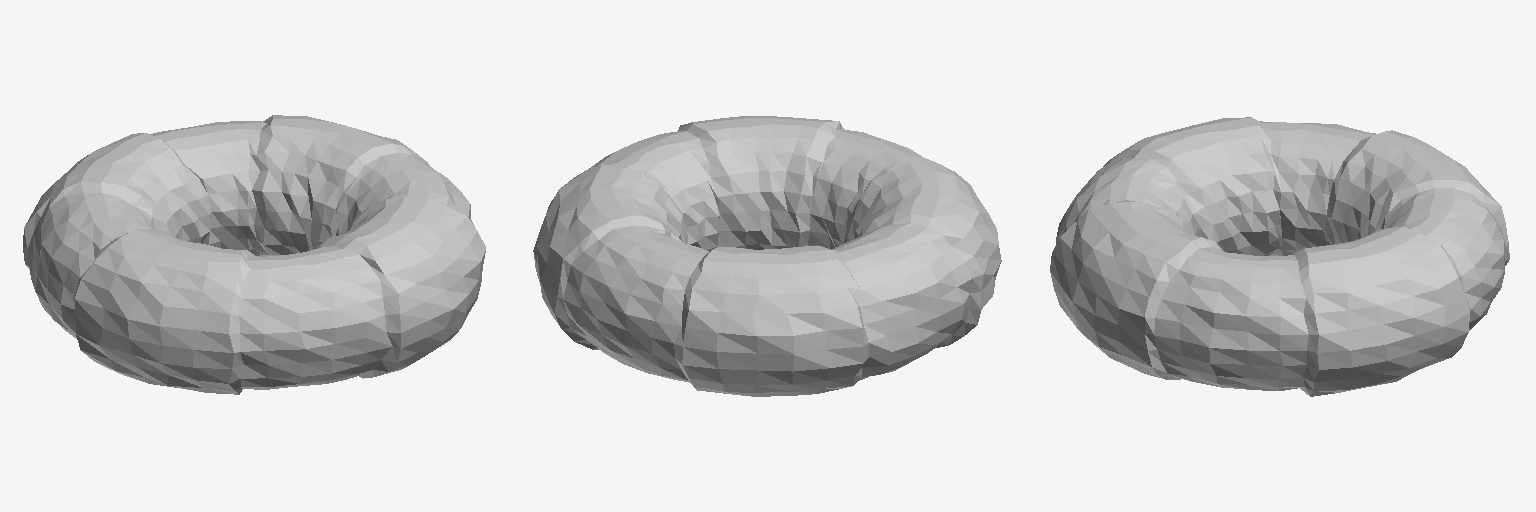
The model's file is life-buoy.obj.
3 renders of one model, left to right at view 1: azimuth 30°, elevation 25°; view 2: azimuth 150°, elevation 25°; view 3: azimuth 270°, elevation 25°, orthographic.
Parts seen in each view (by area): view 1: Torus001; view 2: Torus001; view 3: Torus001.
Part boxes in pixels (left/top/right/bottom): Torus001: left=23, top=115, right=485, bottom=394; Torus001: left=533, top=116, right=1001, bottom=396; Torus001: left=1050, top=117, right=1509, bottom=396.
Size of the model in its own units: 33.67 by 10.77 by 33.76.